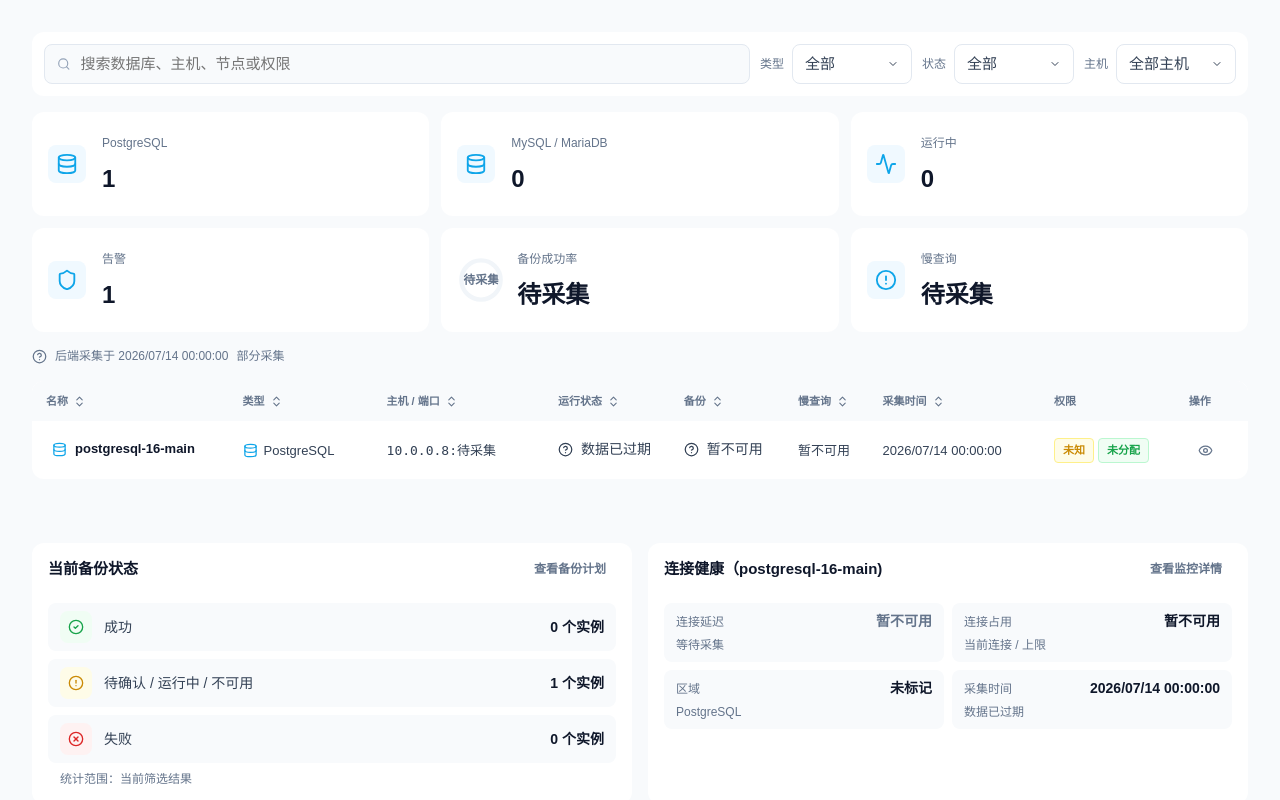
Scenario: database instances live page › treats stale running snapshots as expired alerts
Check: the text "数据已过期" in the row of "10.0.0.8" is shown, box 581,440 -> 651,456
Check: the element showing "告警 1" is shown, box 32,228 -> 429,332
Click the dropdown named "状态 全部" at (1014, 64), box 954,44 -> 1074,84
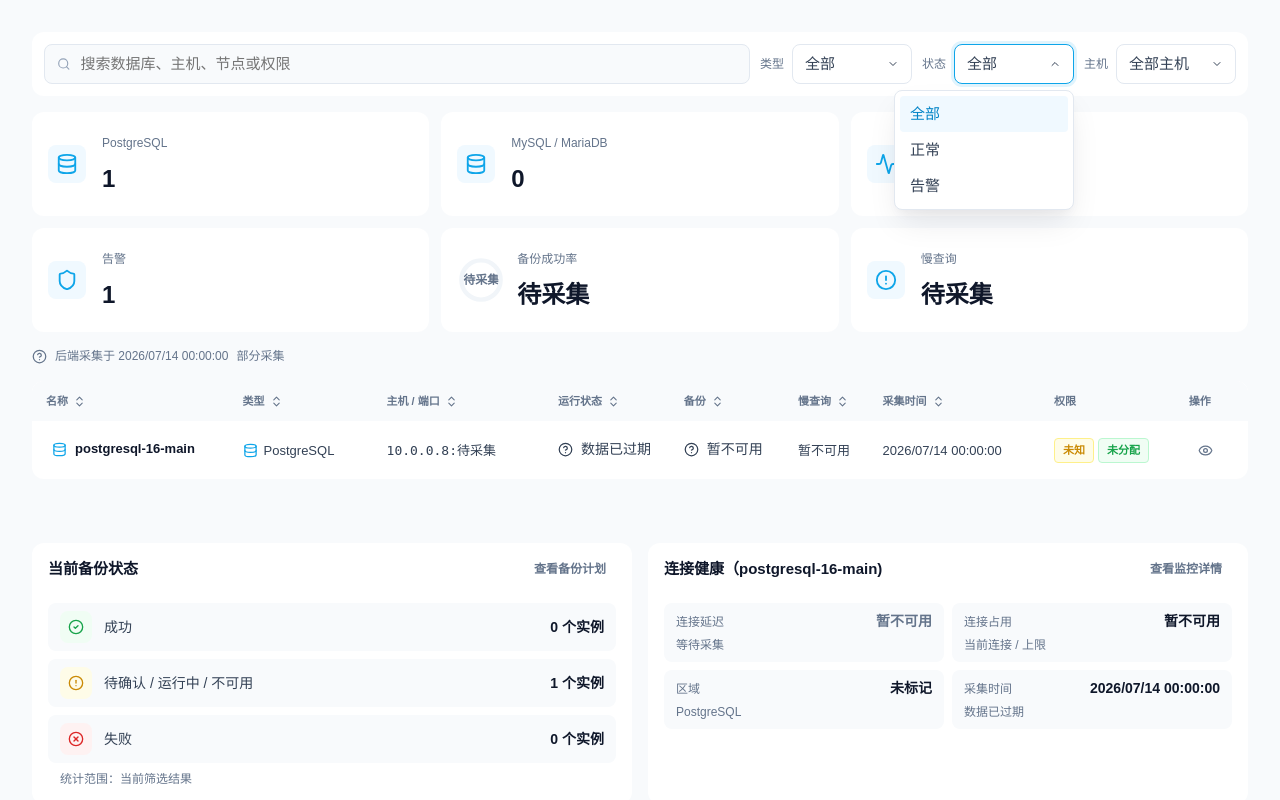
Click the option "正常" at (984, 150), box 900,132 -> 1068,168
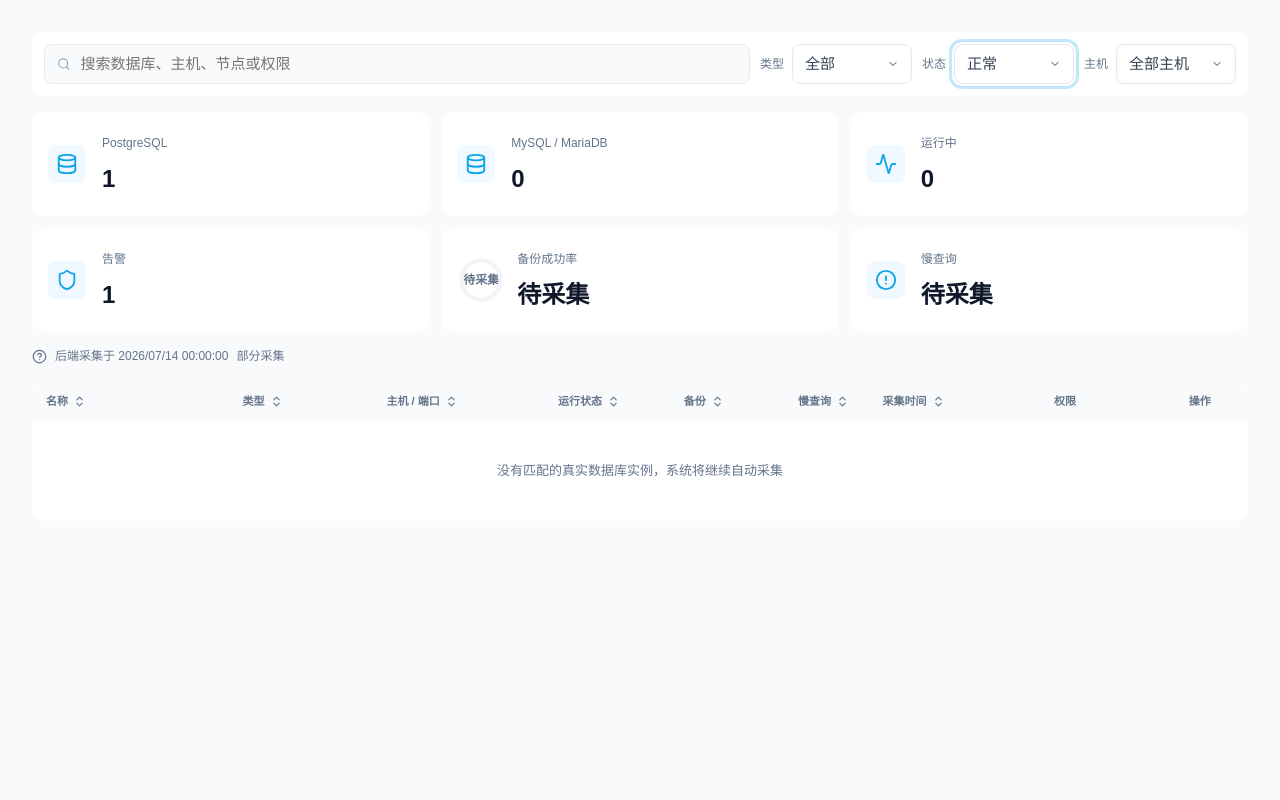
Check: the text "没有匹配的真实数据库实例，系统将继续自动采集" is shown 2 times
